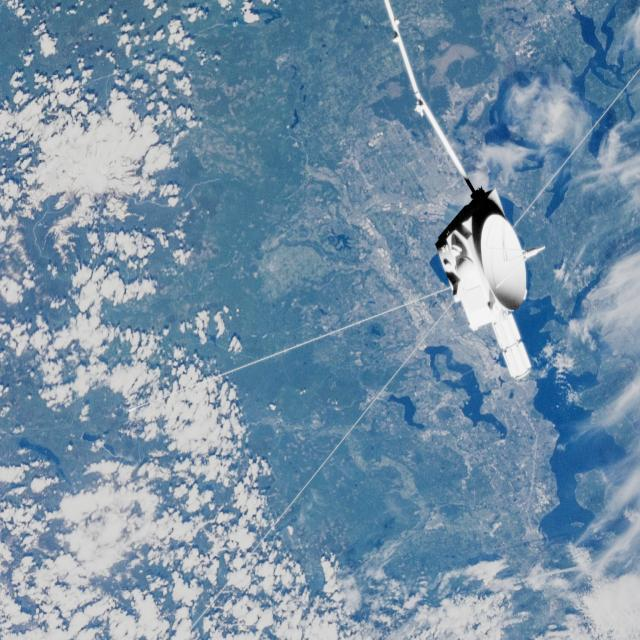satellite: (355, 0, 585, 403)
